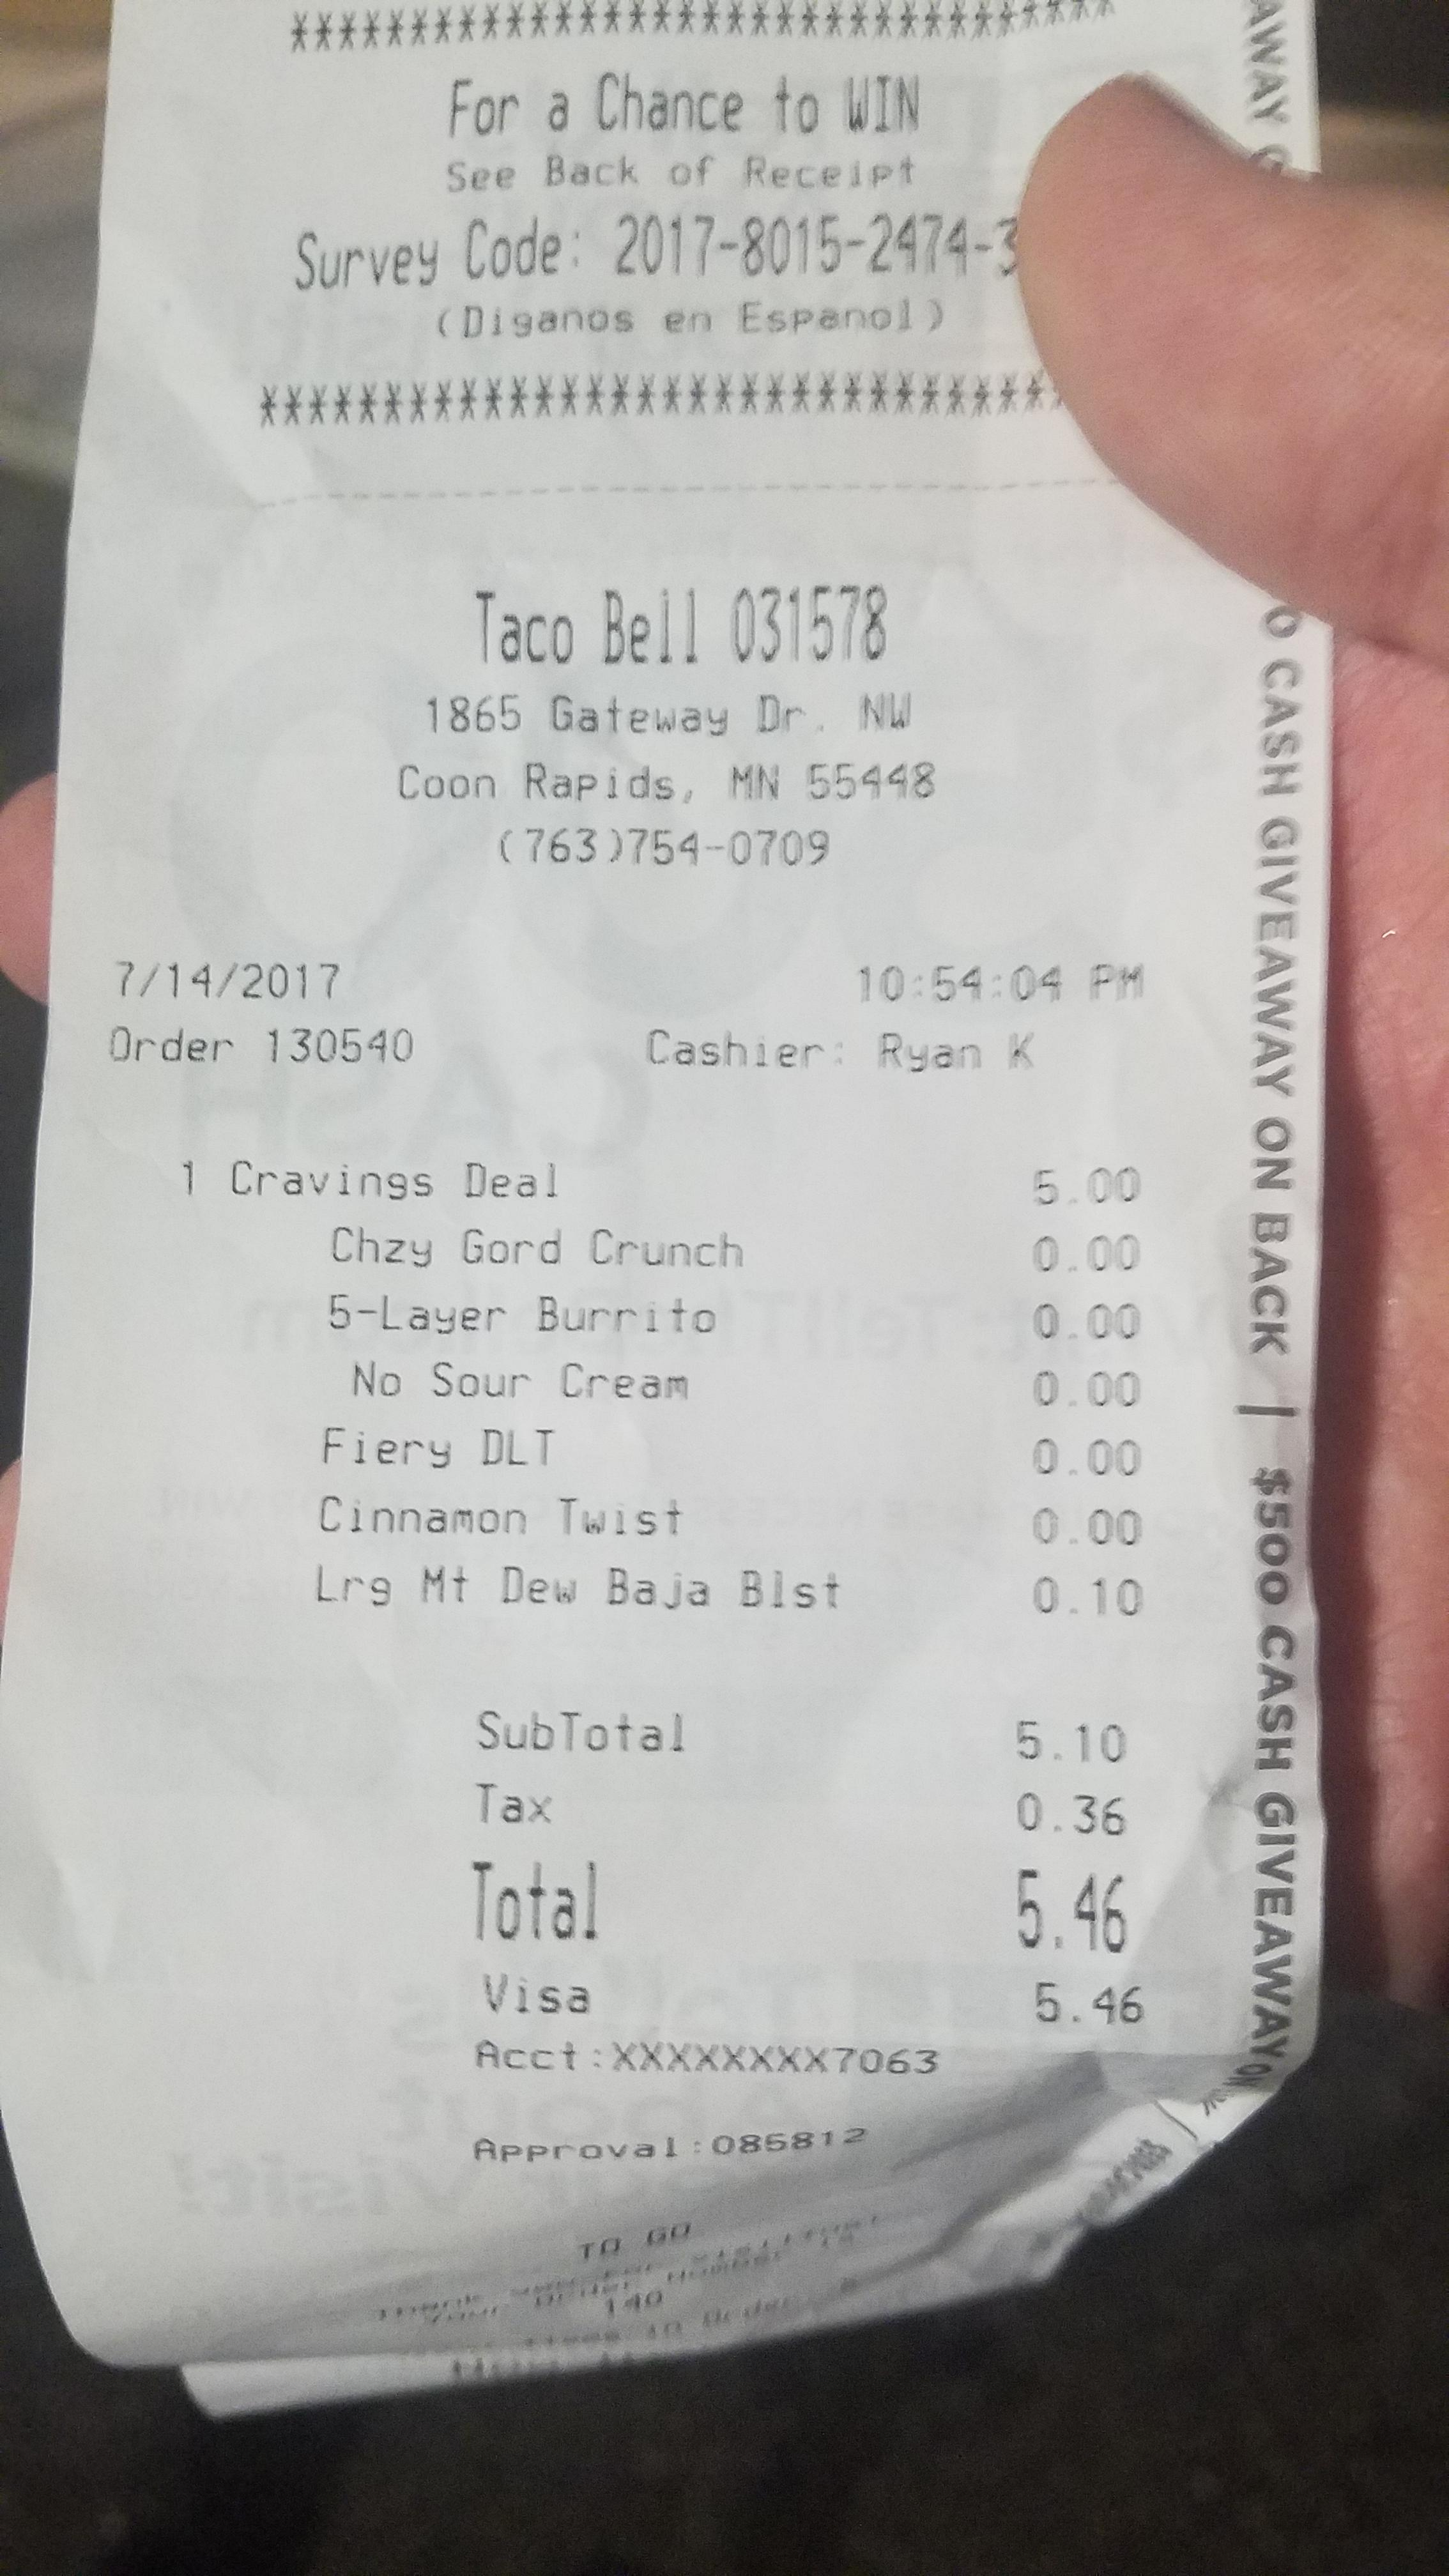Taco Bell: (448, 563, 717, 685)
